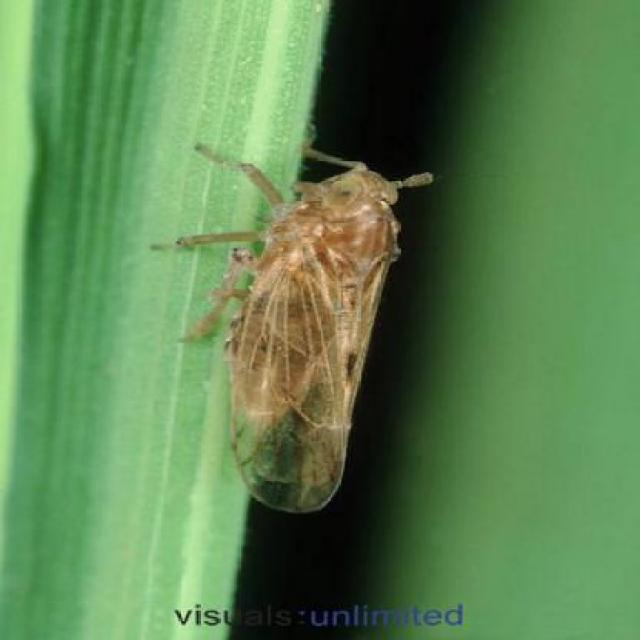brown-planthopper: (229, 163, 403, 514)
